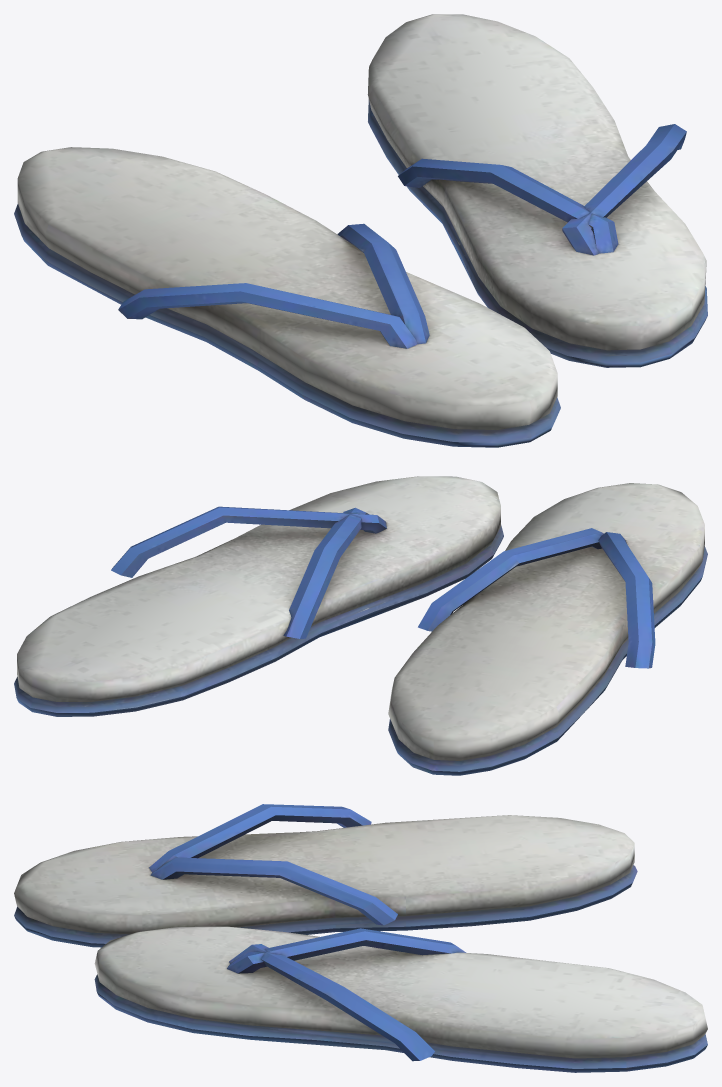
File: sandals_pair.glb
3 renders of one model, top to bottom at view 1: azimuth 30°, elevation 25°; view 2: azimuth 150°, elevation 25°; view 3: azimuth 270°, elevation 25°, orthographic. The views are drawn at different scales.
Parts seen in each view (by area): view 1: sandals_pair; view 2: sandals_pair; view 3: sandals_pair.
Part boxes in pixels (<box>): sandals_pair: <box>14,14,707,447</box>; sandals_pair: <box>14,476,707,775</box>; sandals_pair: <box>14,804,707,1072</box>.
Bounding box in the file's own units: 0.2295 × 0.0288 × 0.2801.
1 material, 1 textured.
